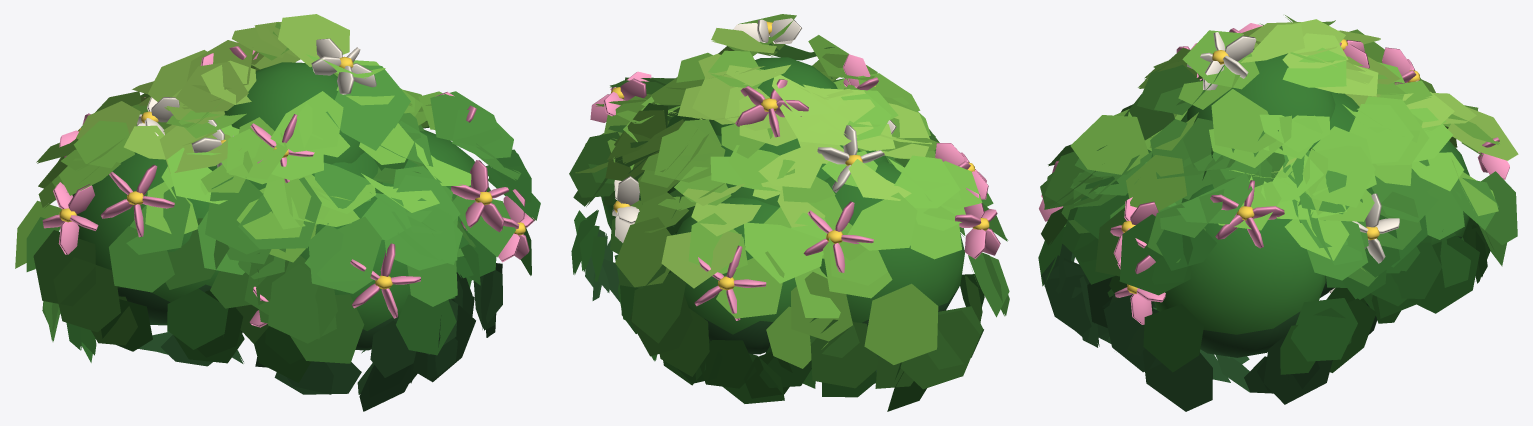
The model's file is BushFlower.glb.
3 views of the same model, side by side, from view 1: azimuth 30°, elevation 25°; view 2: azimuth 150°, elevation 25°; view 3: azimuth 270°, elevation 25° (orthographic).
Visible parts, largest first — view 1: Sway; view 2: Sway; view 3: Sway.
Part boxes in pixels (box(x1,y1,x2,y2)): Sway: box(15, 14, 540, 411); Sway: box(569, 14, 1009, 411); Sway: box(1038, 15, 1518, 411).
Bounding box in the file's own units: 4.59 × 3.26 × 4.3.
Materials: 1 (1 with a texture image).
